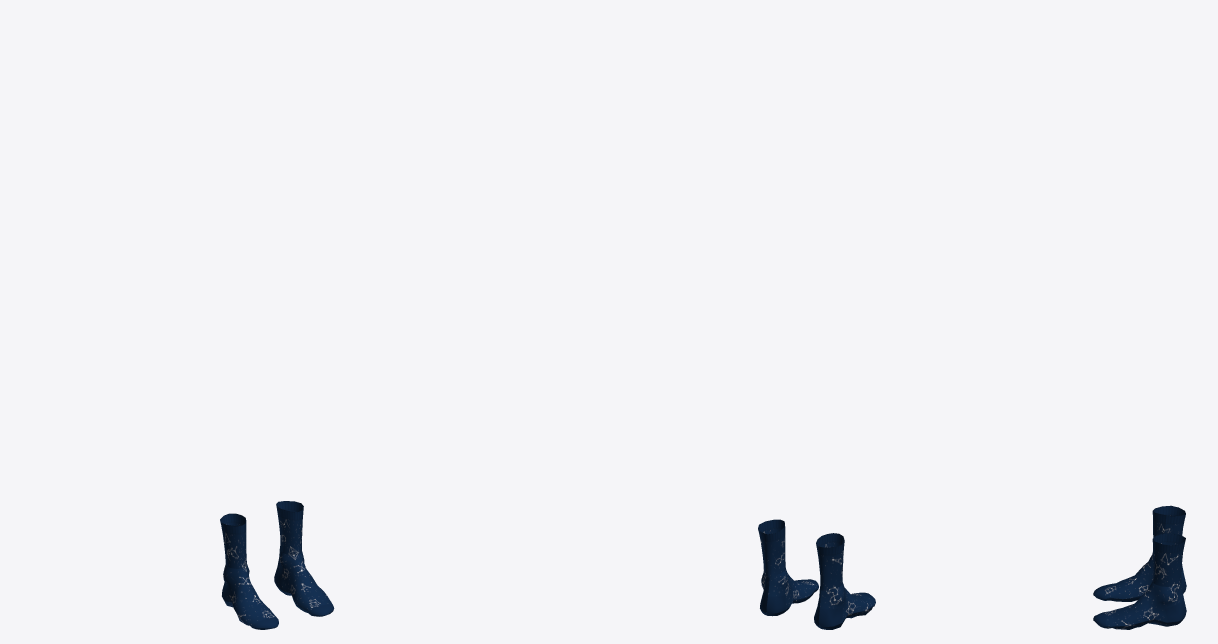
The model's file is socks.glb.
3 views of the same model, side by side, from view 1: azimuth 30°, elevation 25°; view 2: azimuth 150°, elevation 25°; view 3: azimuth 270°, elevation 25° (orthographic). The views are drawn at different scales.
Parts seen in each view (by area): view 1: socks; view 2: socks; view 3: socks.
Part boxes in pixels (x1,y1,x2,y2): socks: (220,501,334,629); socks: (758,519,875,629); socks: (1093,505,1186,629).
Size of the model in its own units: 1.57 by 1.74 by 0.2954.
1 material, 1 textured.
